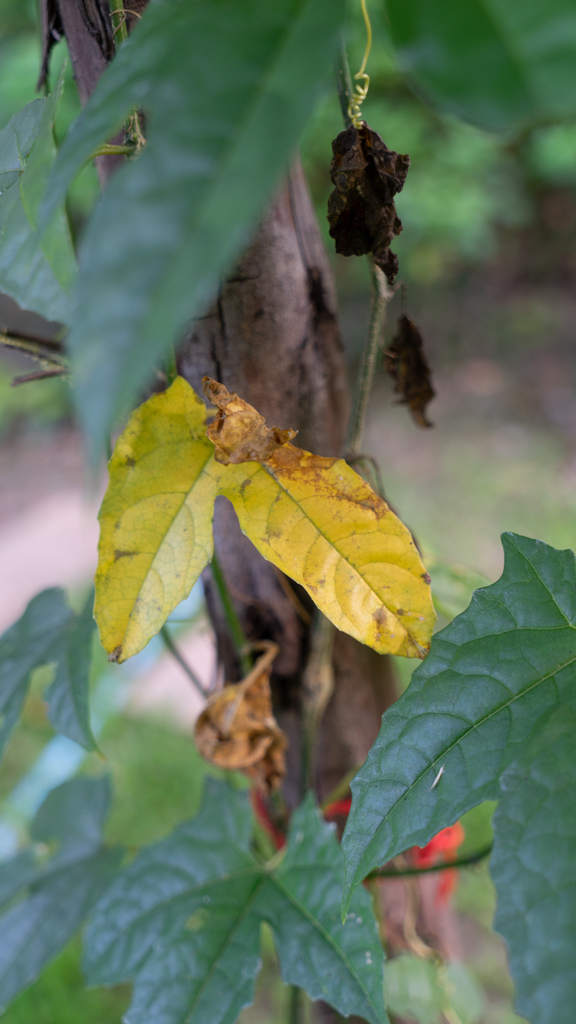Pepper yellow leaf: (88, 371, 441, 669)
